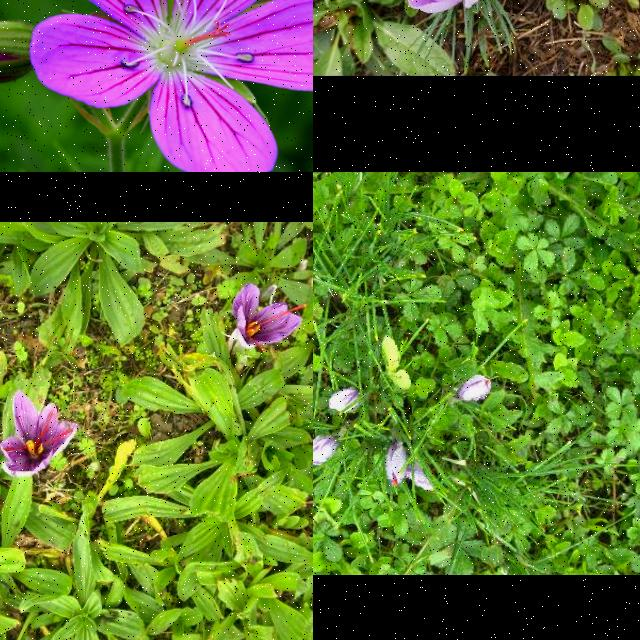flower: (1, 392, 79, 476), (234, 284, 308, 352), (407, 0, 482, 14), (456, 376, 492, 402), (329, 388, 363, 414), (313, 434, 340, 466)
overlap: (385, 443, 435, 491)
